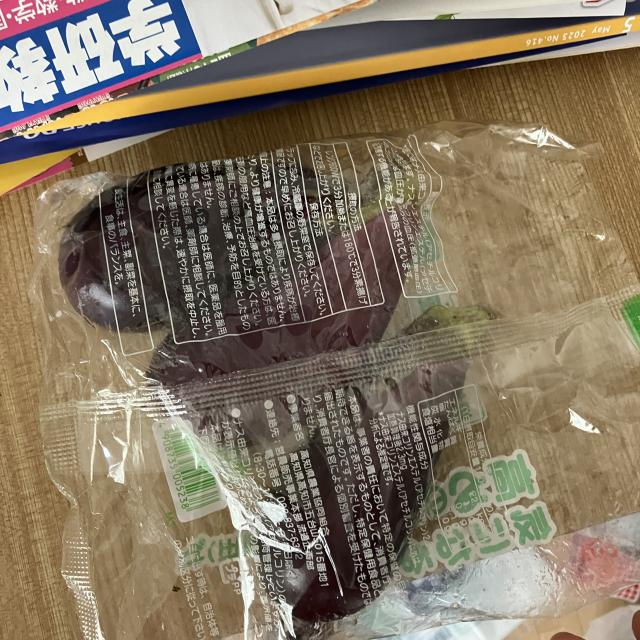eggplant: (140, 161, 428, 451), (252, 303, 501, 622), (57, 158, 380, 333)
